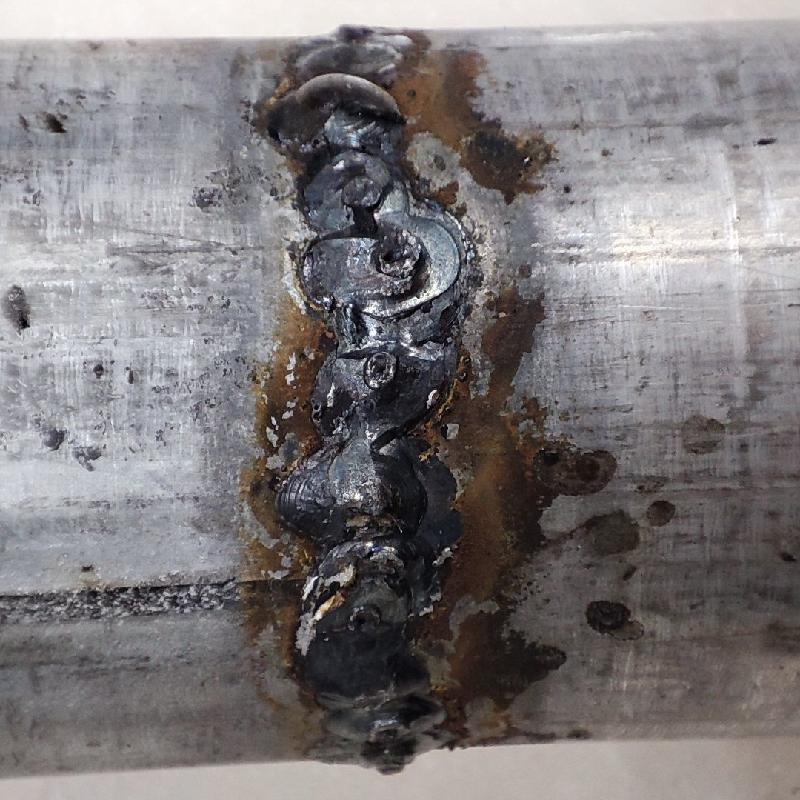Weld: (240, 65, 411, 155)
wrong_size: (291, 162, 463, 776)
